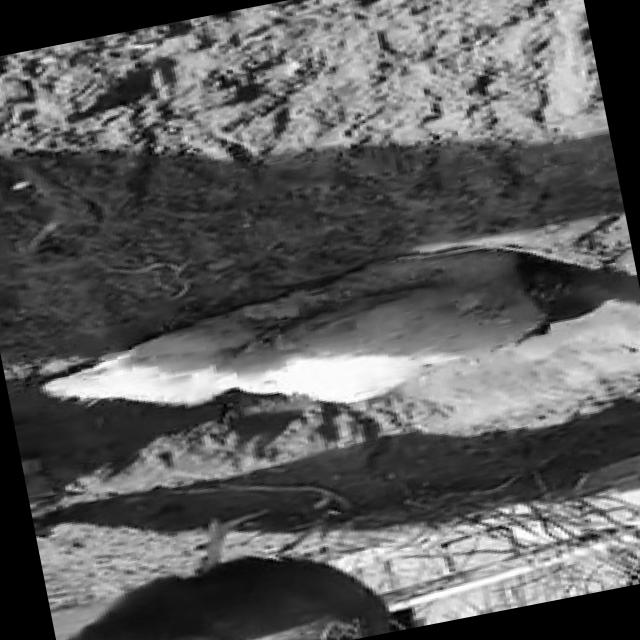stand bath: (0, 226, 635, 496)
